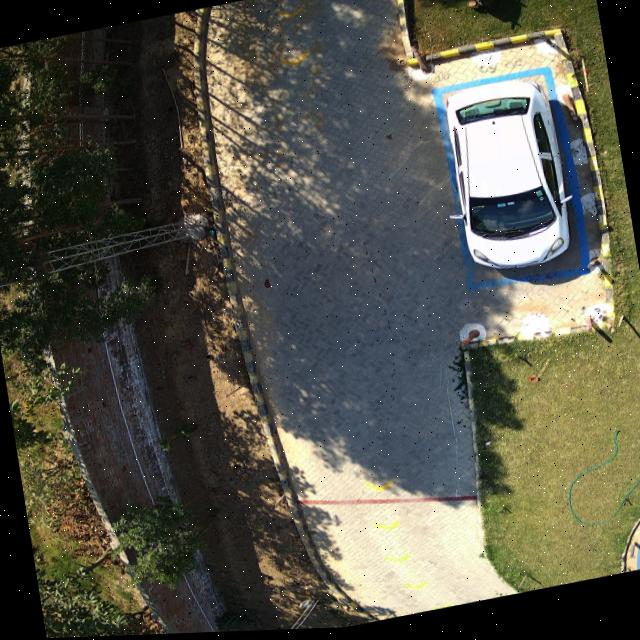car: (446, 83, 571, 272)
